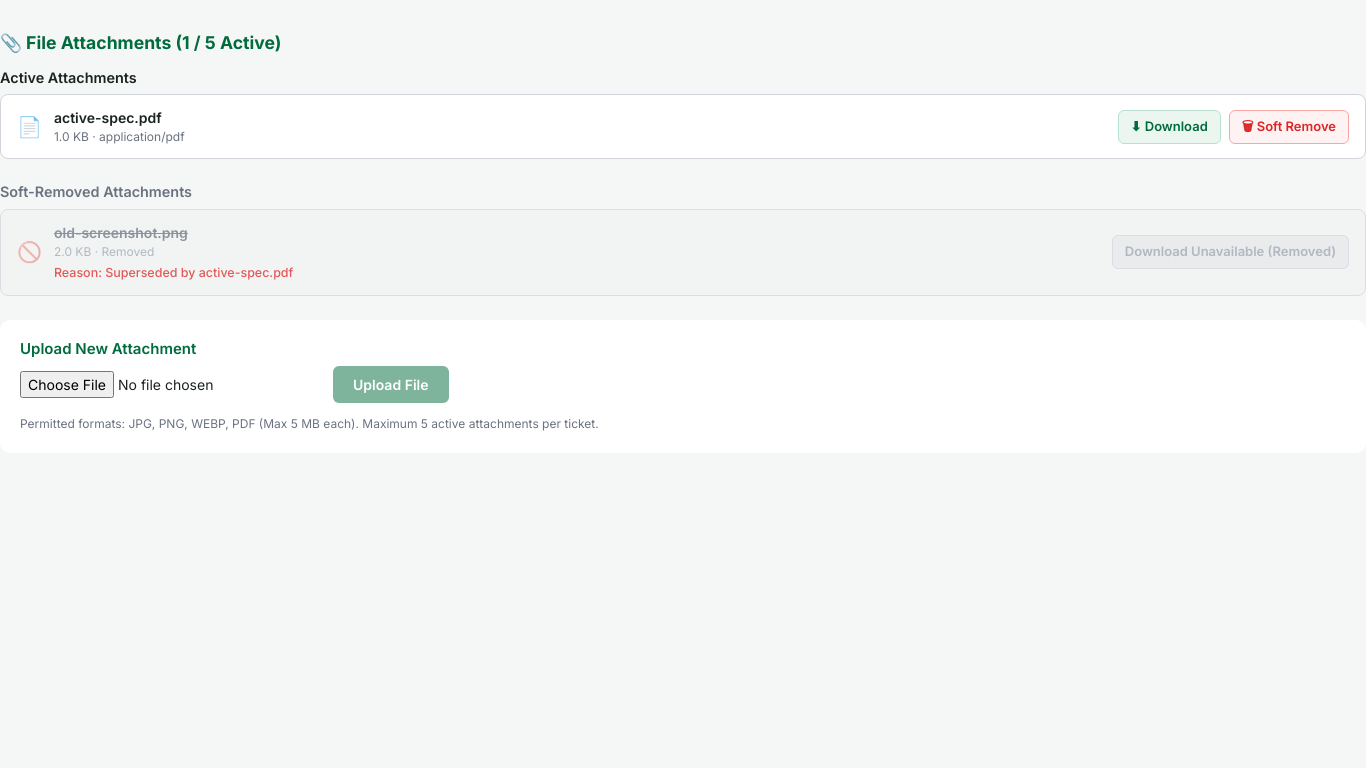
Test: AttachmentSection Component › opens soft removal modal when remove button is clicked on an active attachment
Step 1. Click the button "🗑 Soft Remove" → (1289, 127), box 1229,110 -> 1349,144
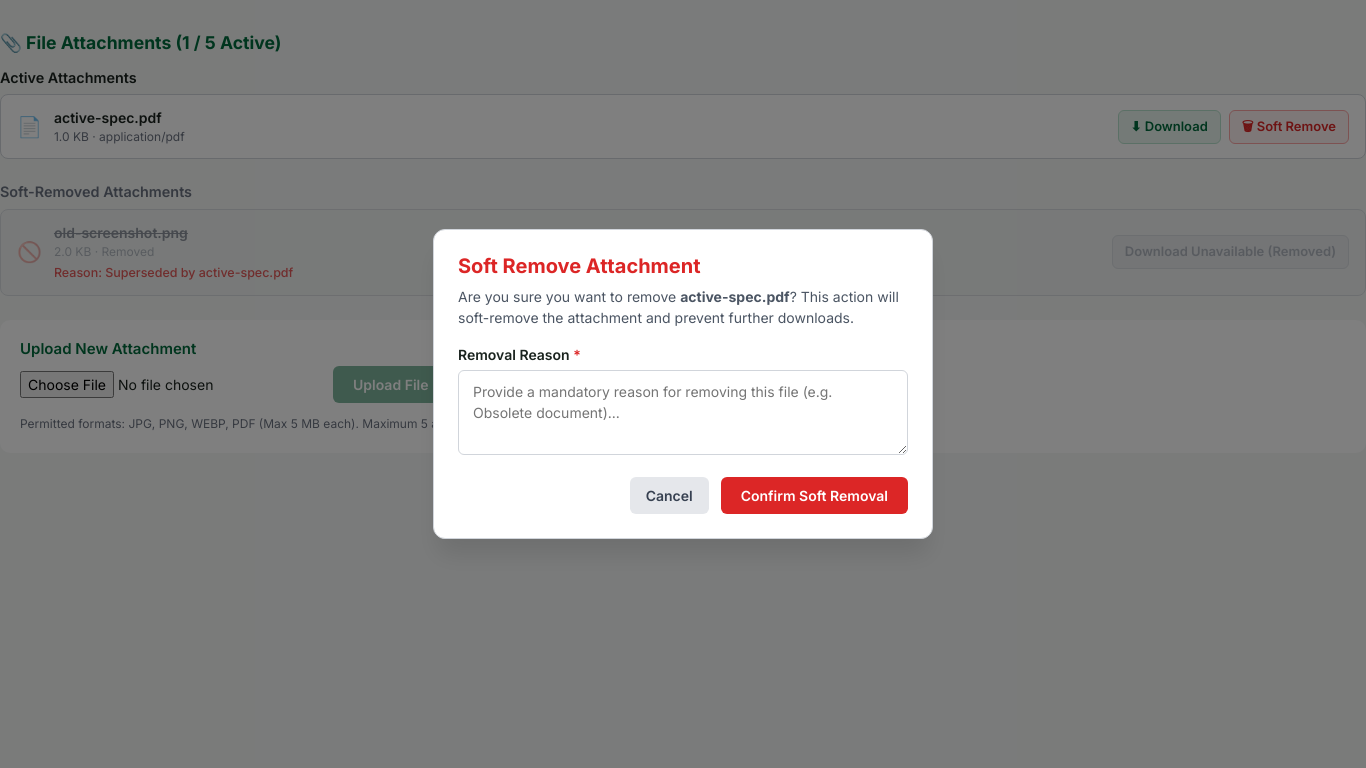
Expected: the heading "Soft Remove Attachment" is shown, 458,254 -> 700,278
Expected: the text box labelled "Removal Reason *" is shown, 458,370 -> 908,455
